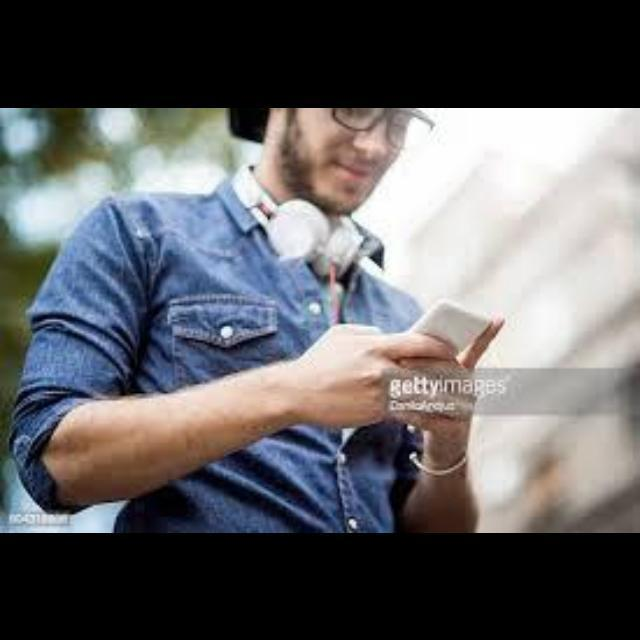phone: (0, 439, 624, 639), (328, 248, 528, 420)
